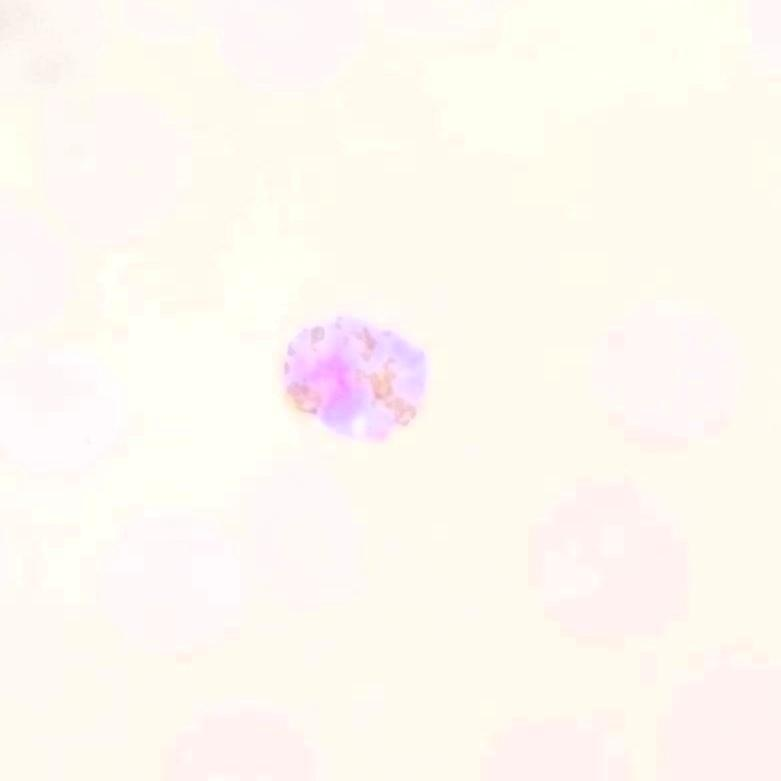Infected: (280, 317, 432, 445)
